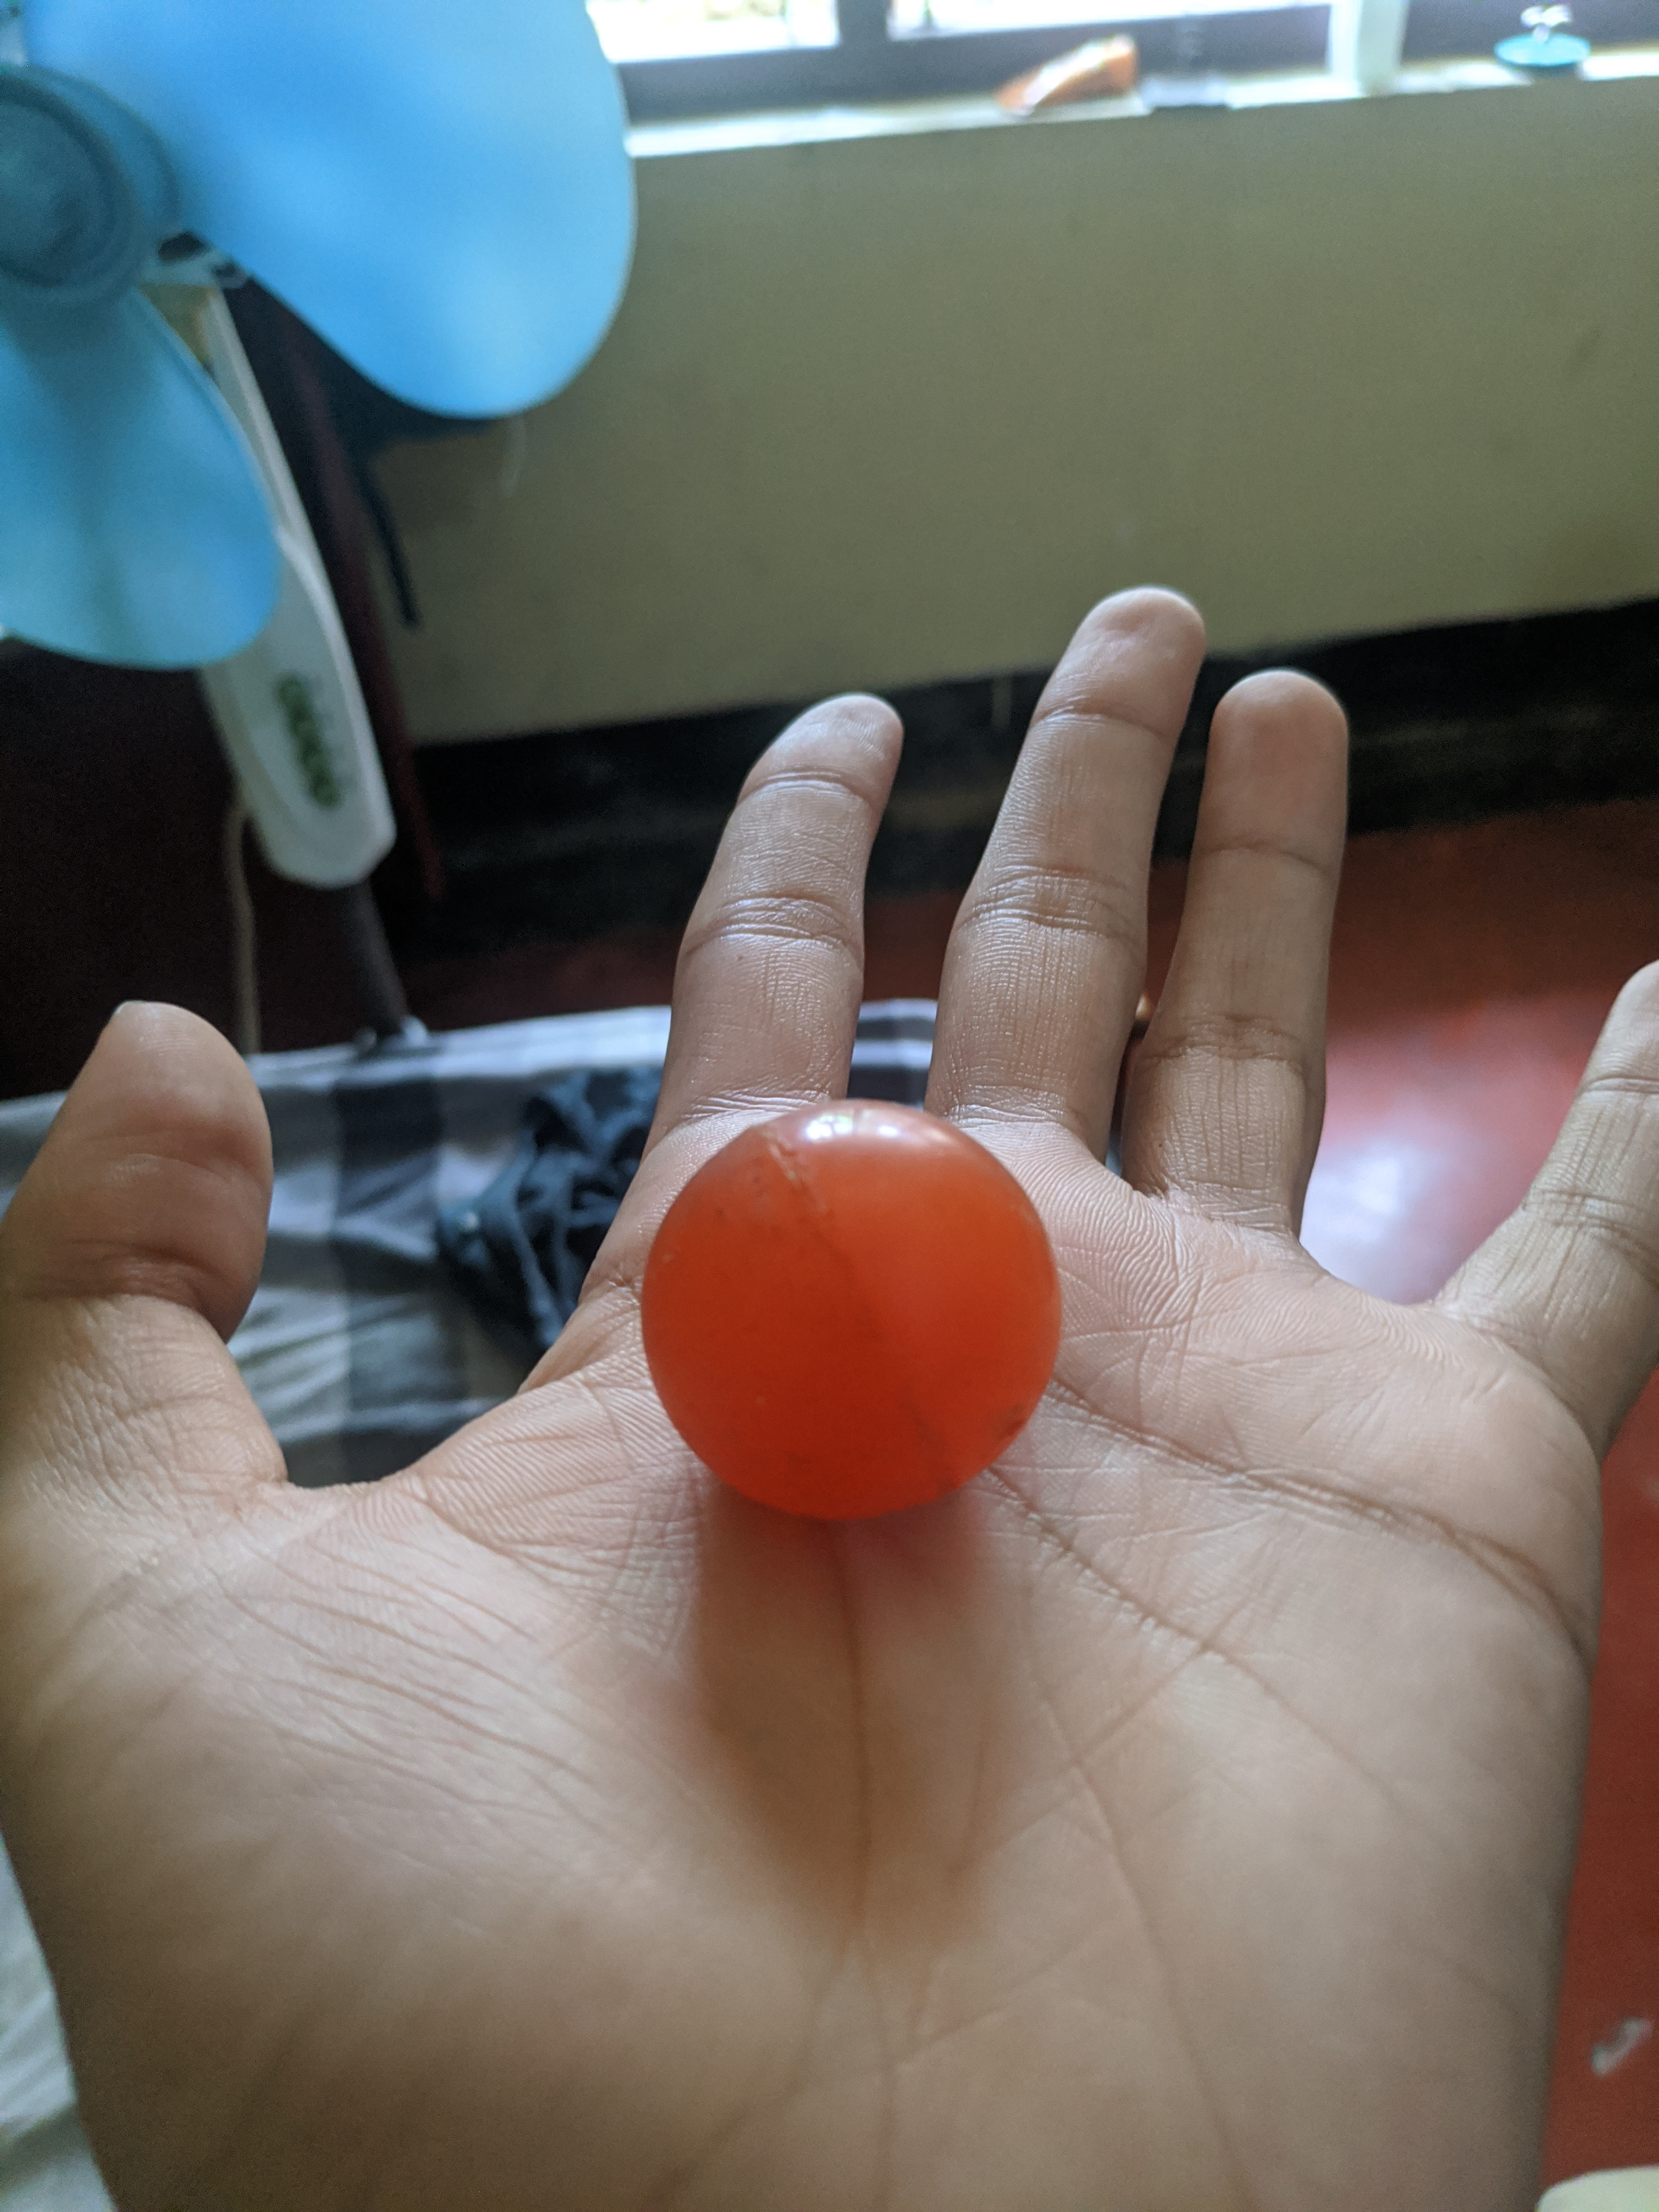red_ball: (626, 1075, 1063, 1527)
